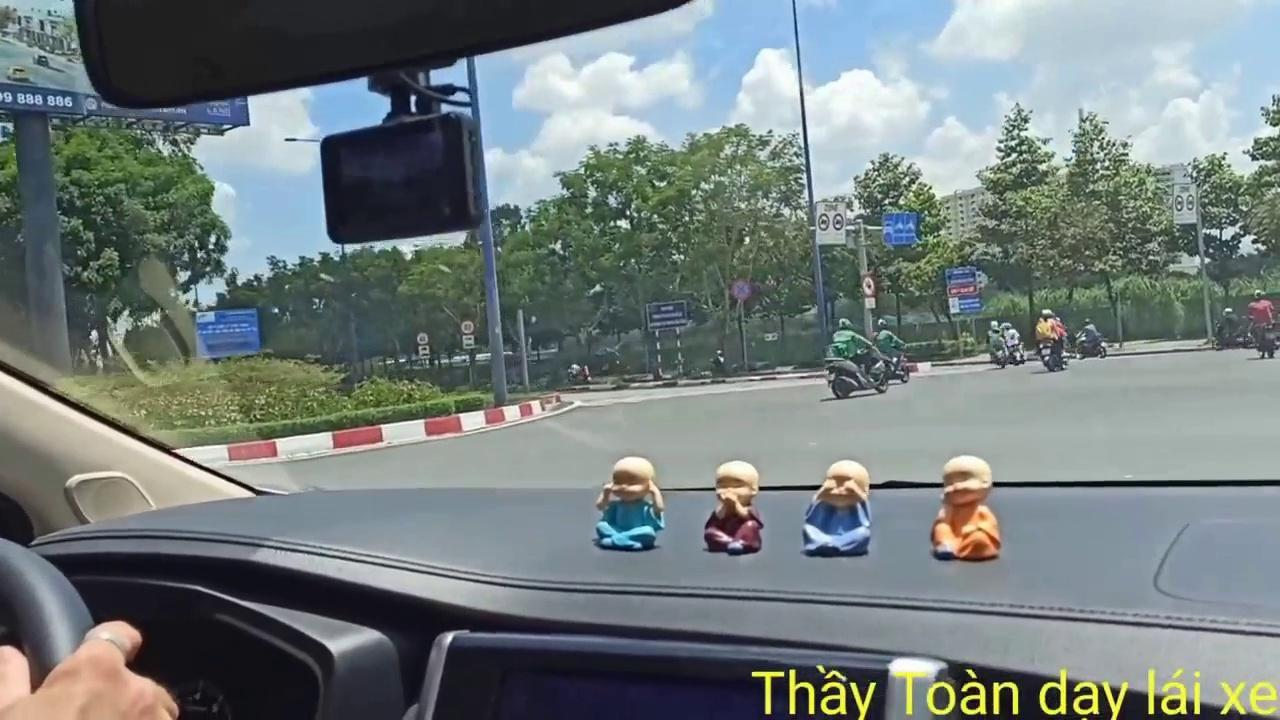Biển phụ: (462, 336, 476, 350), (417, 346, 431, 358)
Cấm cac phương tiện hoạt động trong khung giờ cố định: (814, 200, 849, 247)
Cấm dừng - Cấm đỗ: (731, 277, 752, 301)
Cấm xe máy: (860, 274, 878, 297)
GIơi hạn tốc độ 60Km/h: (416, 330, 430, 345)
Giới hạn tốc độ 80Km/h: (460, 319, 476, 335)
Khác: (194, 310, 260, 356), (945, 264, 983, 314)
Làn đường cho từng xe: (882, 210, 917, 244)
